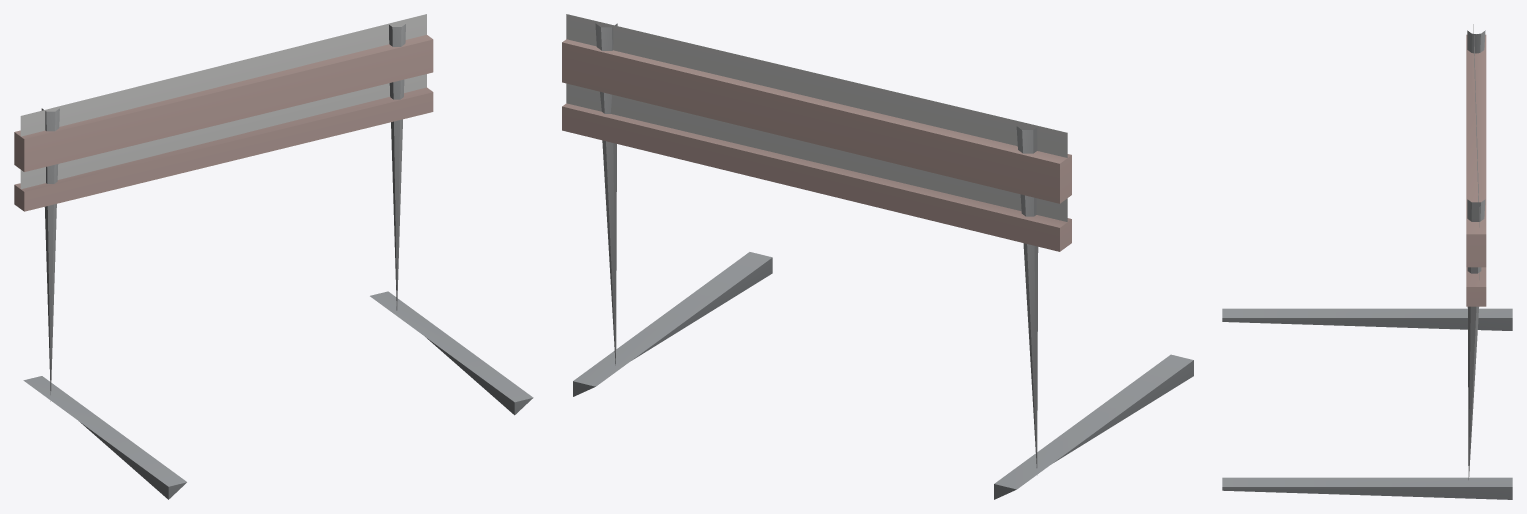
The model's file is hurdle.lod1.glb.
3 views of the same model, side by side, from view 1: azimuth 30°, elevation 25°; view 2: azimuth 150°, elevation 25°; view 3: azimuth 270°, elevation 25° (orthographic). The views are drawn at different scales.
Bounding box in the file's own units: 1.3 × 0.903 × 0.8.
